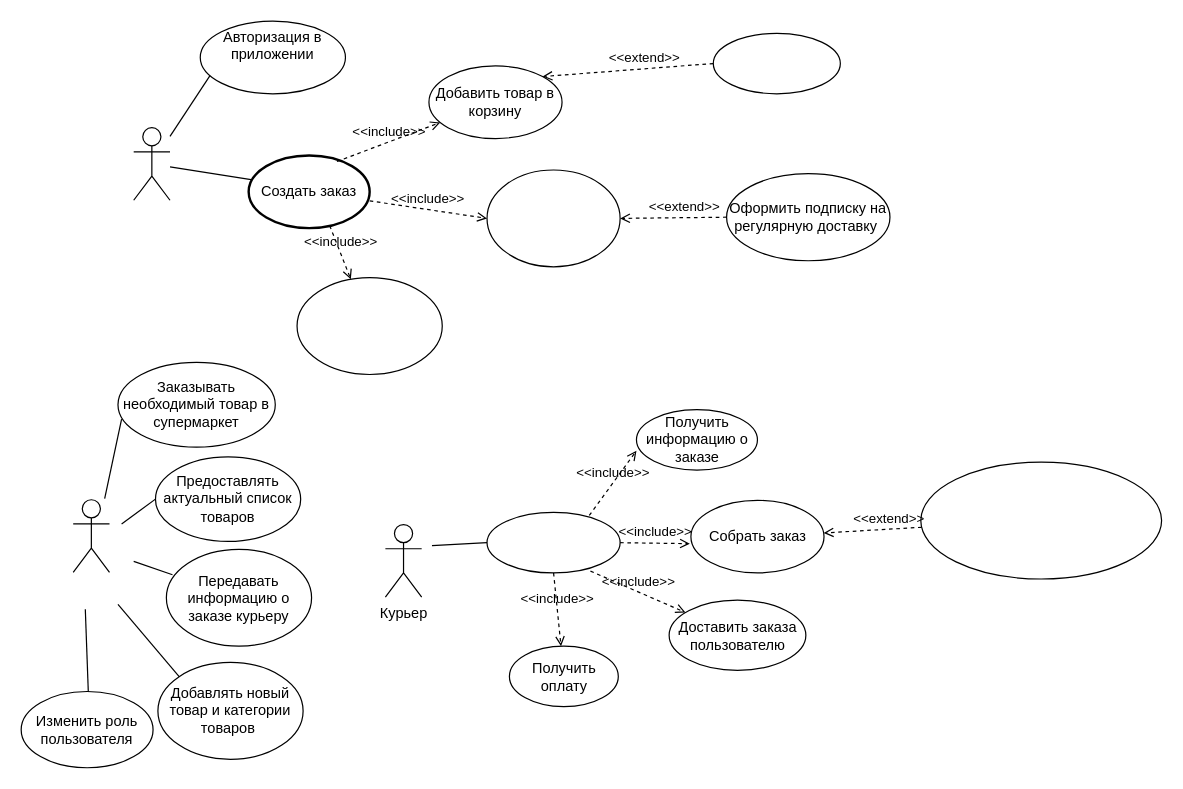
Some shapes in this 1183 by 789 pixel diagram are drawn without their labels. The box of each missing label's shape, as (x1, y1, x2, y2) in pixels:
Администратор: (72, 499, 110, 572)
Заполнить данных доставки: (486, 169, 620, 267)
Клиент: (132, 126, 170, 200)
Обработка заказа: (486, 511, 620, 573)
Подтвердить заказа: (296, 276, 442, 374)
Связаться с пользователем при отсутствии необходимого товара: (920, 461, 1162, 579)
Удалить товар из корзины: (712, 32, 840, 94)
